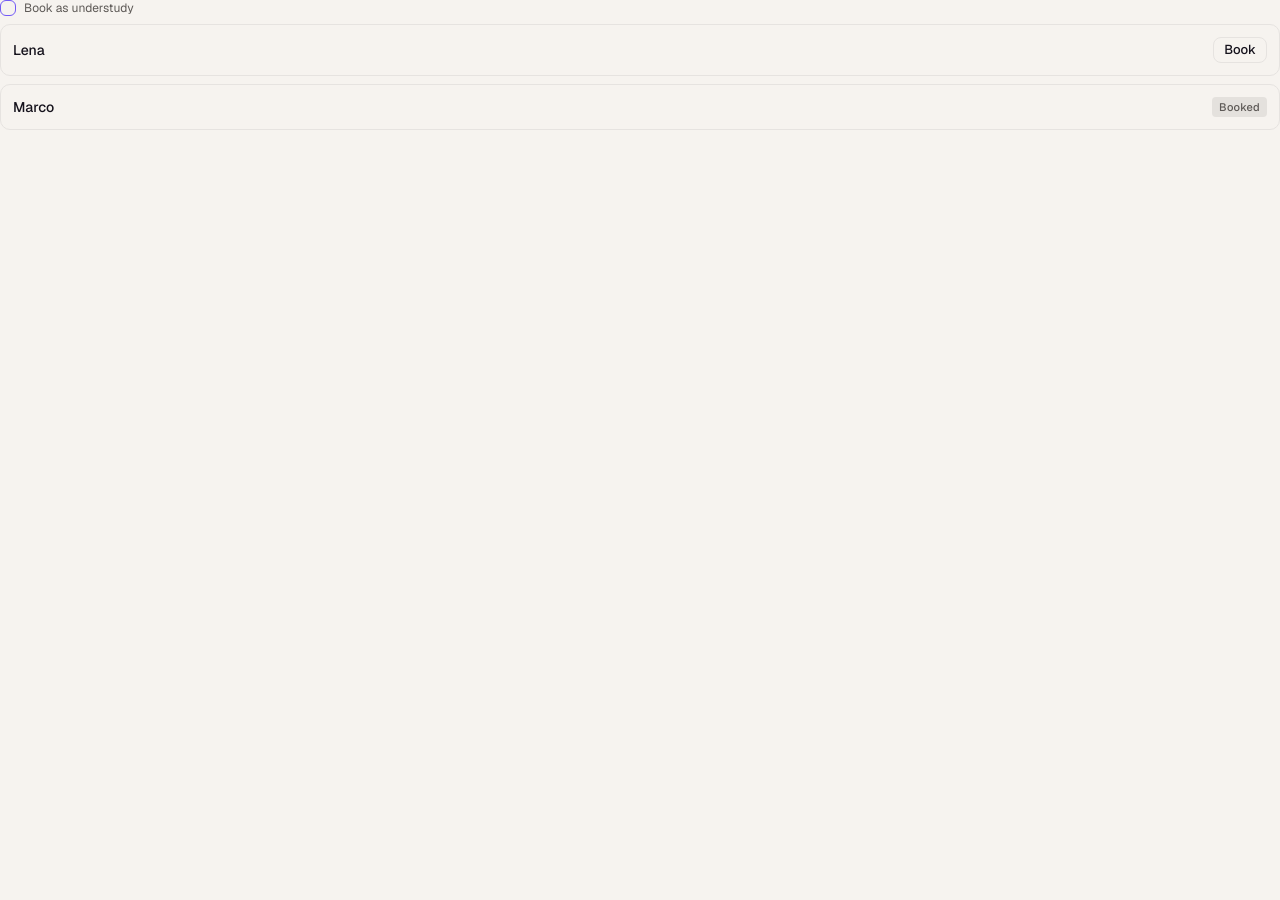
Test: EligibilityBookList › books an artist after confirming the dialog and marks already-booked rows
The image size is (1280, 900).
Later steps or results of the test are not shown.
Click the button "Book" at {"x": 1240, "y": 50}, box x1=1213 y1=37 x2=1267 y2=63
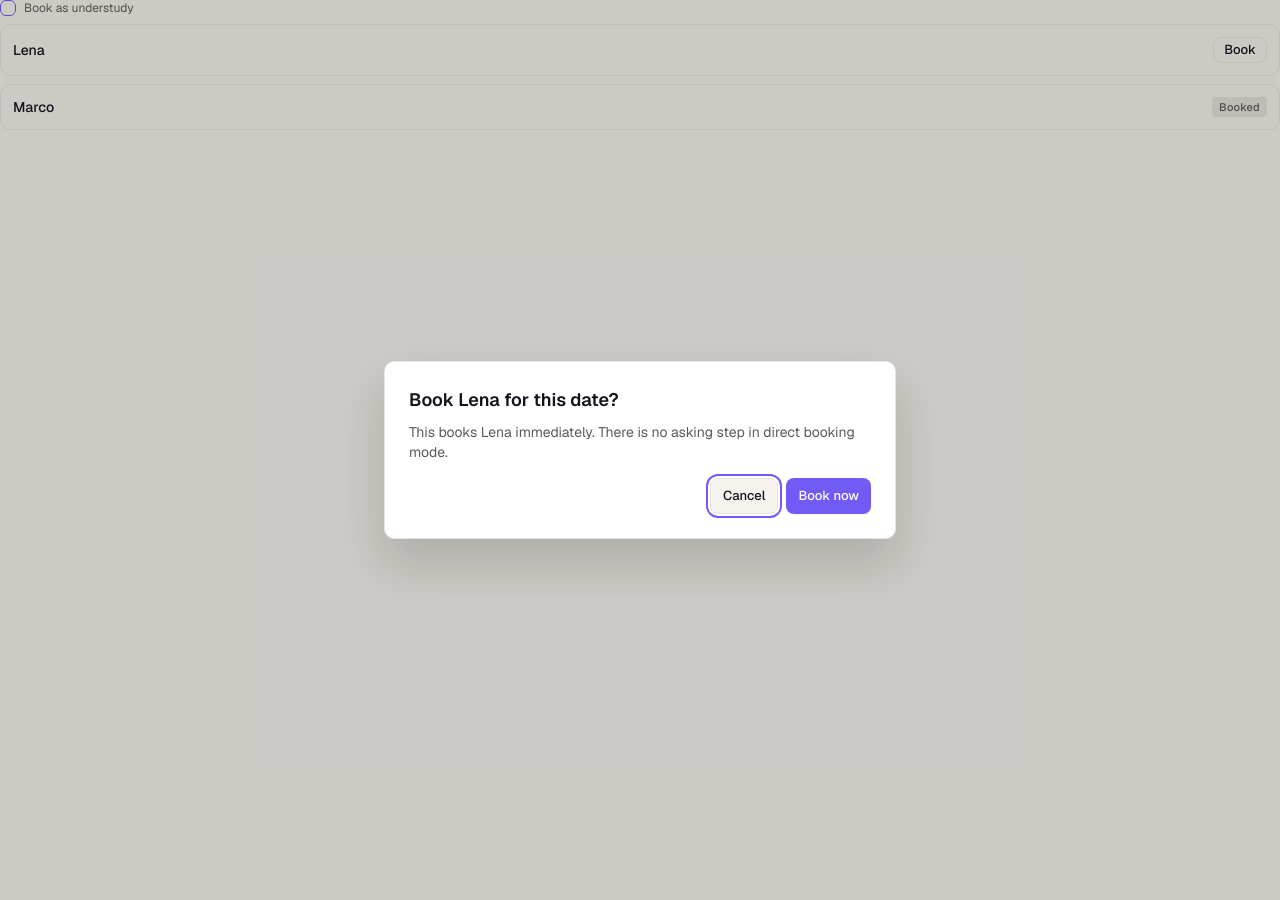
Expected: the heading "Book Lena for this date?" is shown, x1=409 y1=388 x2=619 y2=411
Expected: the text "This books Lena immediately. There is no asking step in direct booking mode." is shown, x1=409 y1=422 x2=871 y2=462
